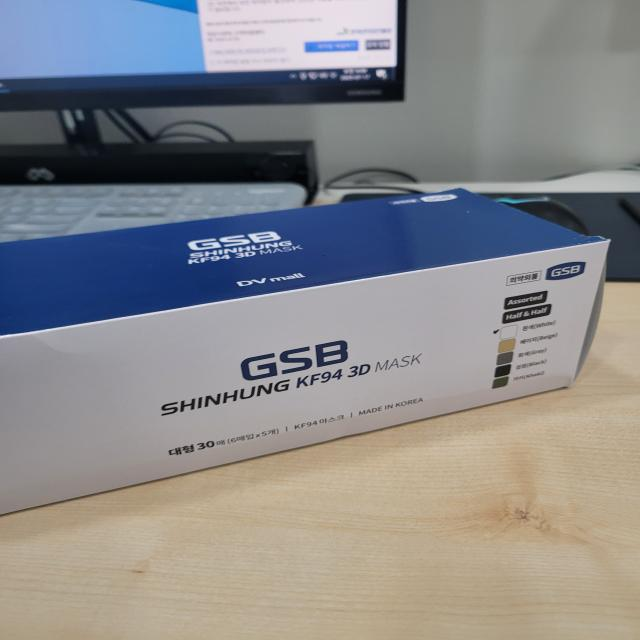mask: (0, 177, 638, 539)
